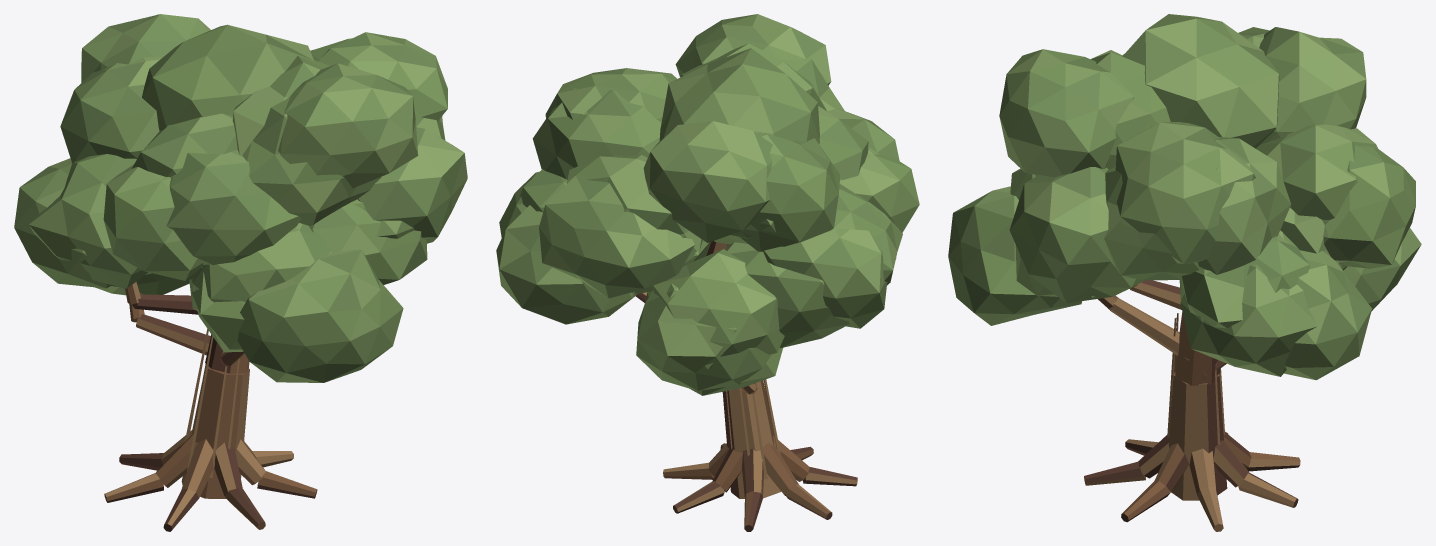
Rendered from healthy_tree_c.glb.
3 renders of one model, left to right at view 1: azimuth 30°, elevation 25°; view 2: azimuth 150°, elevation 25°; view 3: azimuth 270°, elevation 25°, orthographic. The views are drawn at different scales.
Visible parts, largest first — view 1: healthy_tree_c; view 2: healthy_tree_c; view 3: healthy_tree_c.
Part boxes in pixels (x1,y1,x2,y2): healthy_tree_c: (14, 14, 467, 531); healthy_tree_c: (496, 14, 919, 531); healthy_tree_c: (948, 14, 1421, 531).
Bounding box in the file's own units: 3.7 × 4.03 × 3.61.
